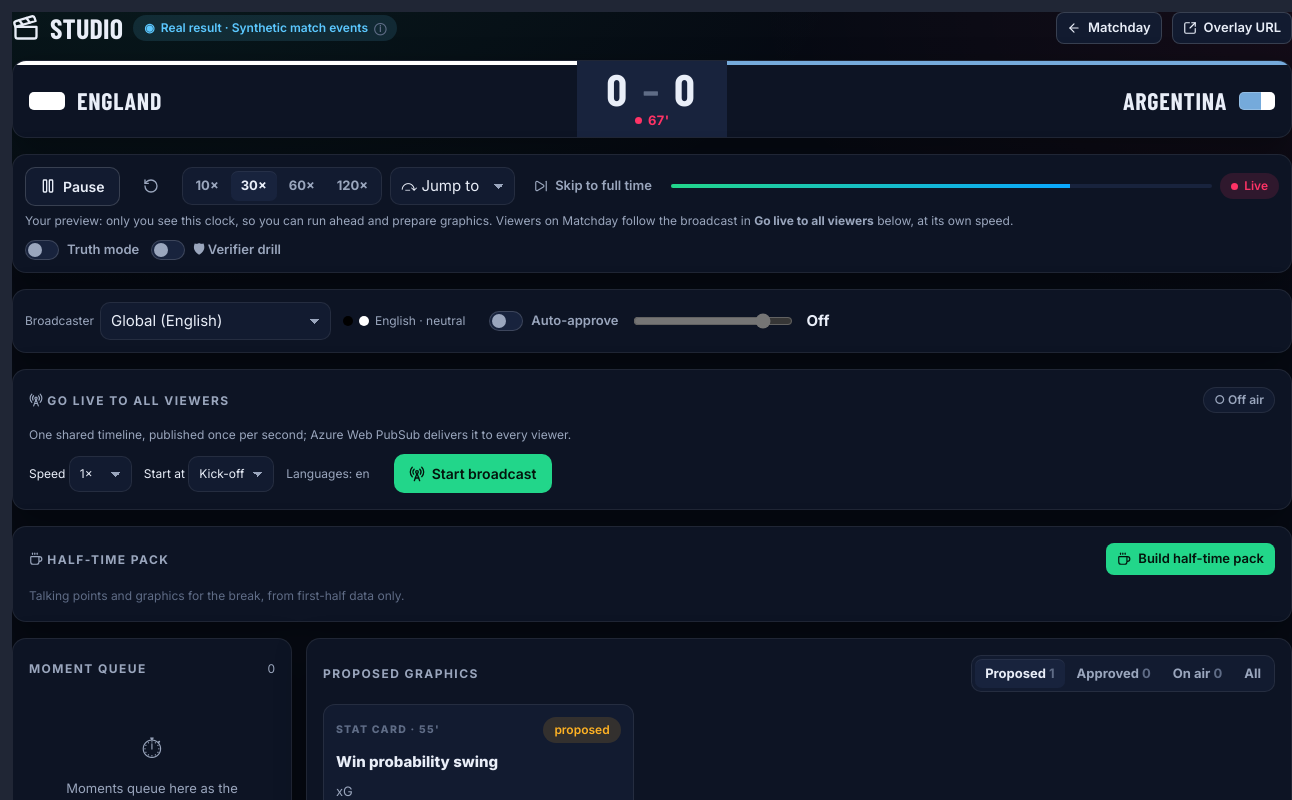
Test: Studio control room › truth mode reveals the panel and the drill reconnects at the current clock with drill=true
The image size is (1292, 800).
Expected: the text "Win probability swing" is shown, [336,752,498,771]
Click the checkbox labelled "Truth mode" at (42, 250), box [25,240,59,260]
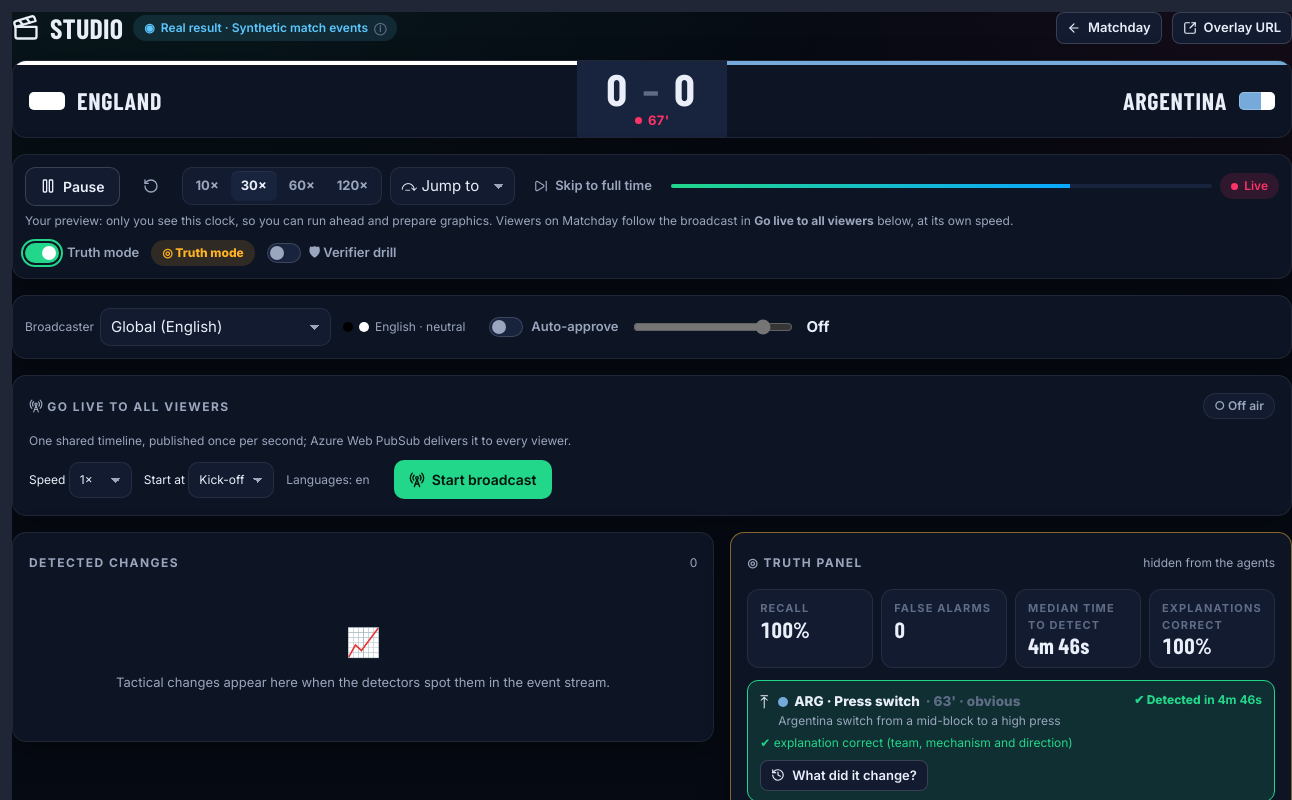
Now the element named "Truth score" shows "4m 46s", box [1028,632,1089,658]
Click the checkbox labelled "🛡 Verifier drill" at (284, 253), box [267,243,301,263]
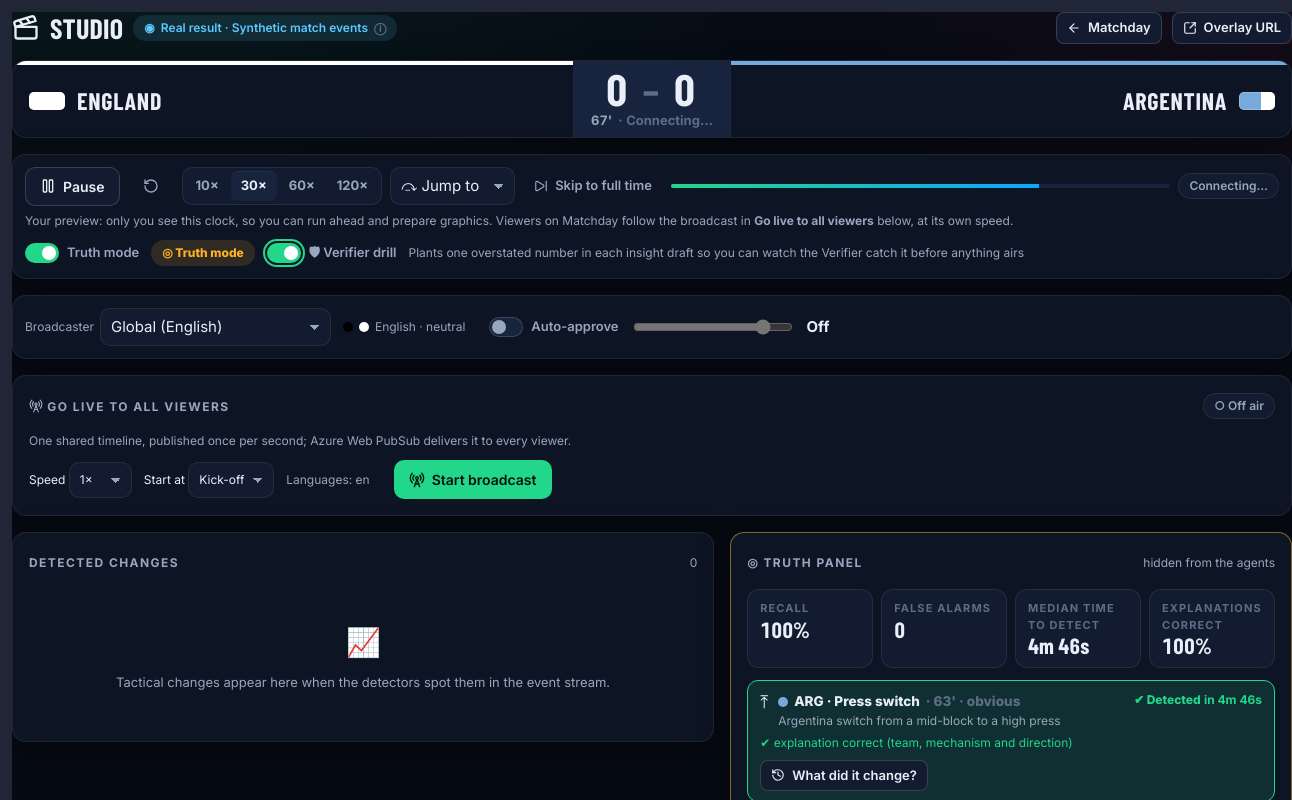
Now the text "Plants one overstated number" is shown, box [408,245,1024,260]
